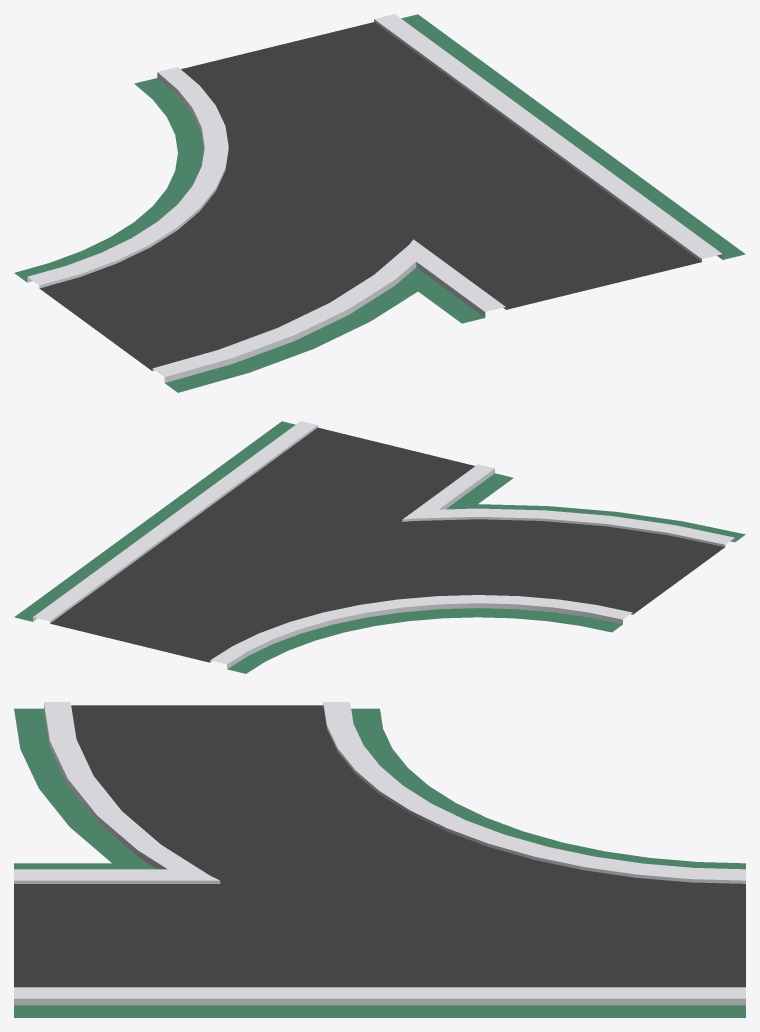
Rendered from roadSplitLarge.obj.
The picture shows the model from 3 angles, top to bottom: view 1: azimuth 30°, elevation 25°; view 2: azimuth 150°, elevation 25°; view 3: azimuth 270°, elevation 25°; orthographic projection. The views are drawn at different scales.
Parts seen in each view (by area): view 1: roadSplitLarge; view 2: roadSplitLarge; view 3: roadSplitLarge.
Part boxes in pixels (x1,y1,x2,y2): roadSplitLarge: (14,14,745,392); roadSplitLarge: (14,421,745,673); roadSplitLarge: (14,702,745,1017).
Size of the model in its own units: 2 by 0.02 by 2.
